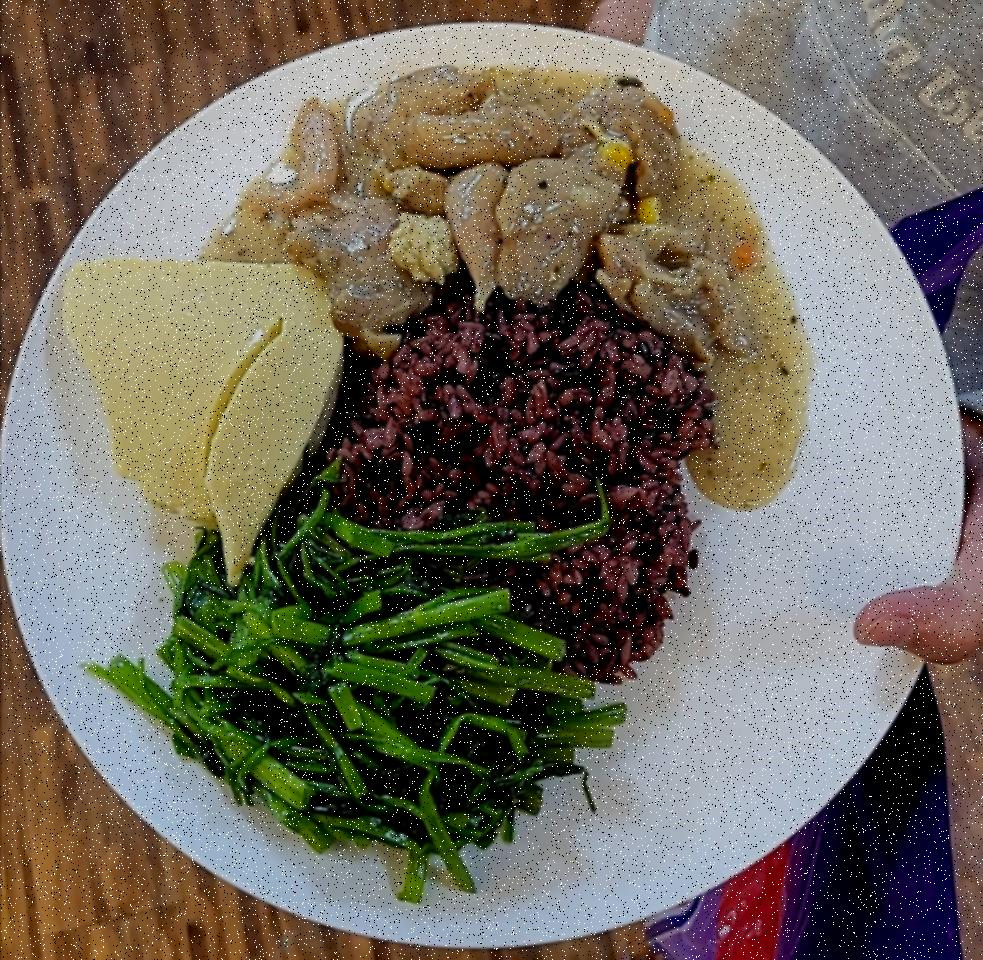plate: (8, 10, 971, 946)
purple rice: (322, 306, 708, 672)
side dish: (146, 520, 608, 860), (48, 251, 340, 573)
white sauce chicken: (250, 59, 764, 360)
